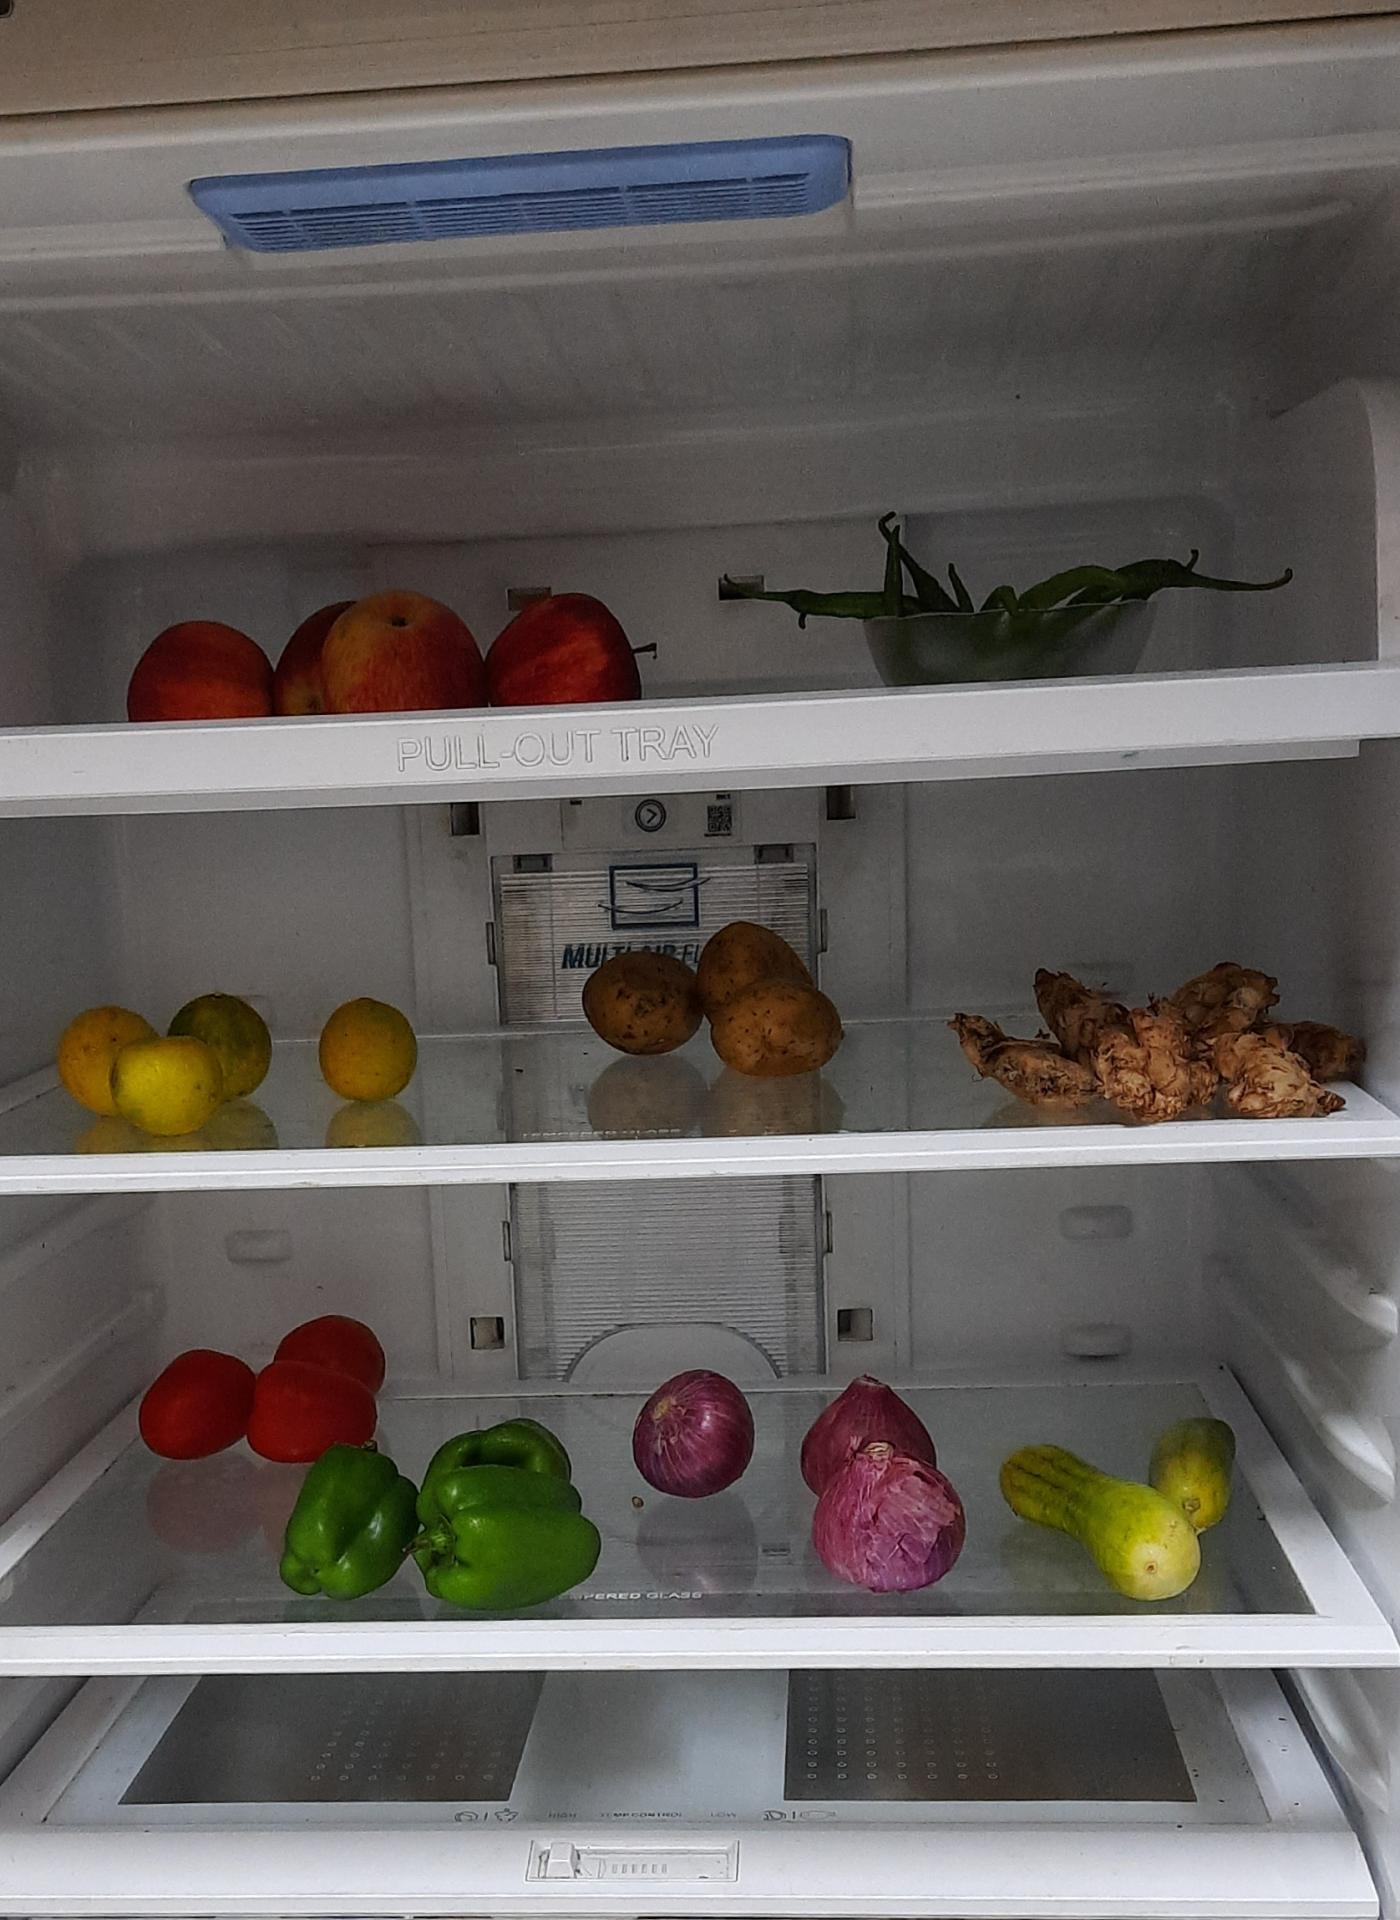apple: (107, 575, 668, 721)
capsicum: (286, 1422, 611, 1598), (283, 1441, 417, 1598)
chillies: (757, 523, 1227, 684)
cucumber: (997, 1418, 1242, 1598)
ginger: (959, 951, 1364, 1111)
onion: (796, 1382, 960, 1595), (620, 1360, 765, 1506)
potato: (587, 923, 847, 1076)
tomato: (145, 1306, 395, 1465)
